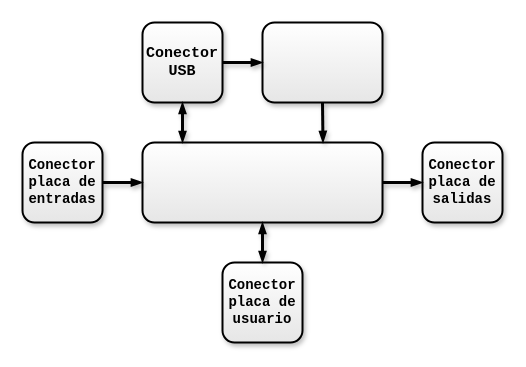
Image size: 526x367. Some labels were removed from this diagram. The centre of each missing label's shape, as x and y in pixels:
Fuente de alimentación: the point at 323,63
Microcontrolador: the point at 263,183
